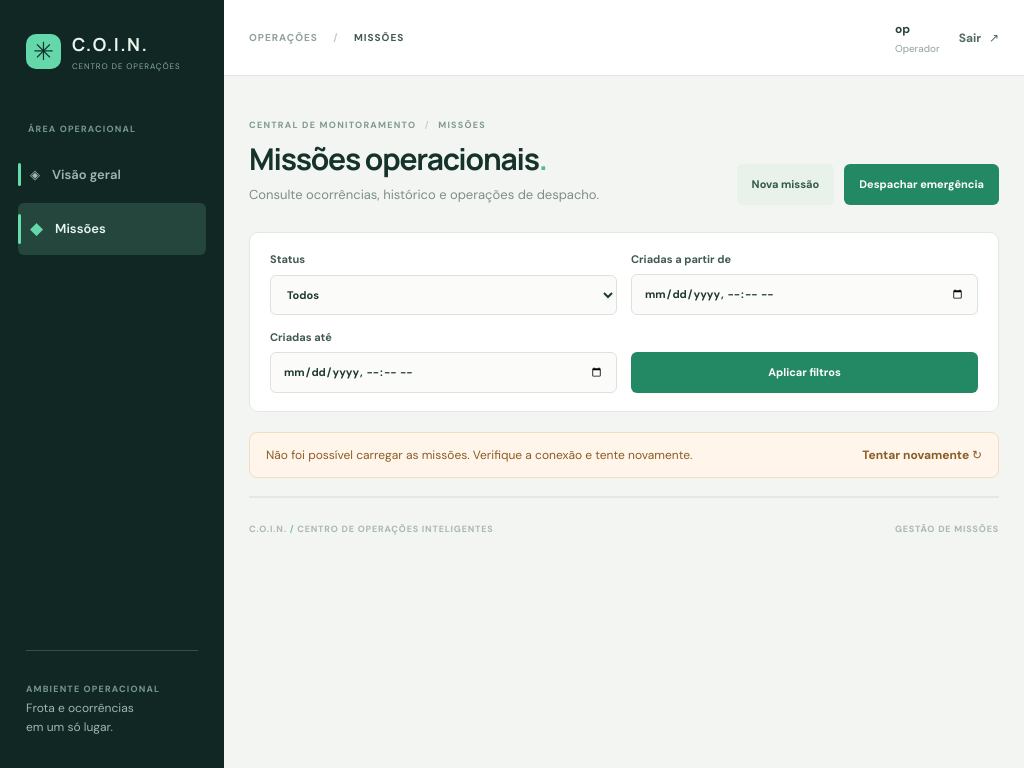
Test: lista e detalhes de missões › exibe falha de consulta e permite tentar novamente
Check: the message shows "Não foi possível carregar as missões", box [266,446,692,462]
Click the button "Tentar novamente ↻" at (922,454), box [862,446,982,464]
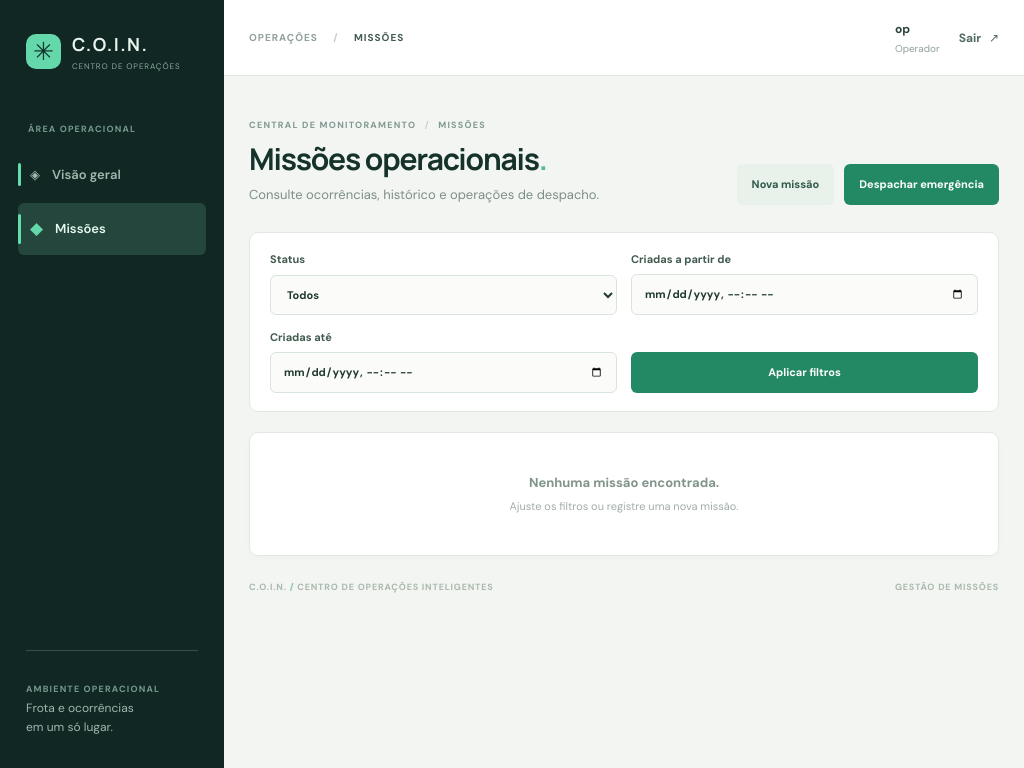
Check: the text "Nenhuma missão encontrada." is shown, box [529,474,719,490]
